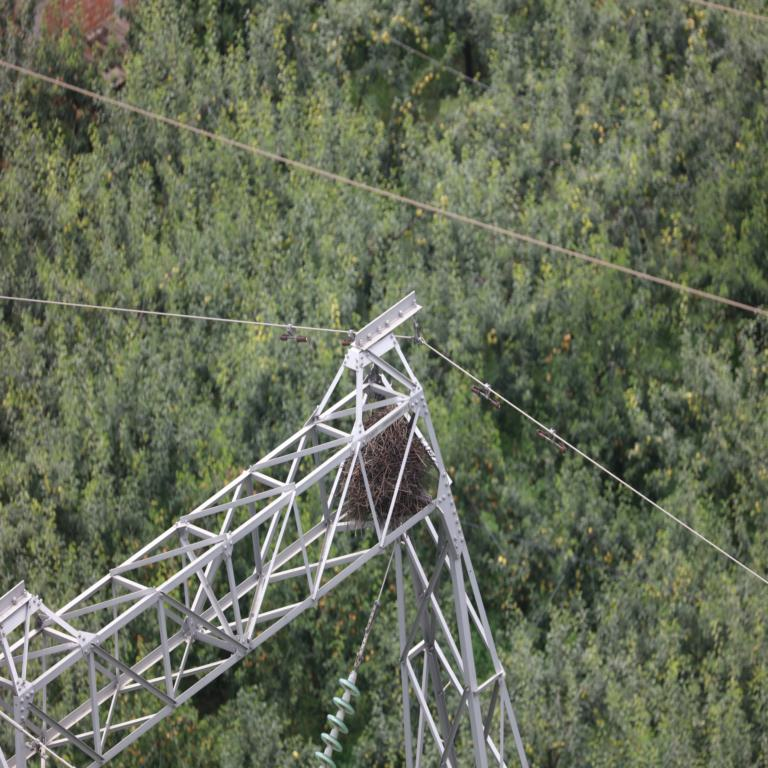nest: (343, 395, 433, 519)
